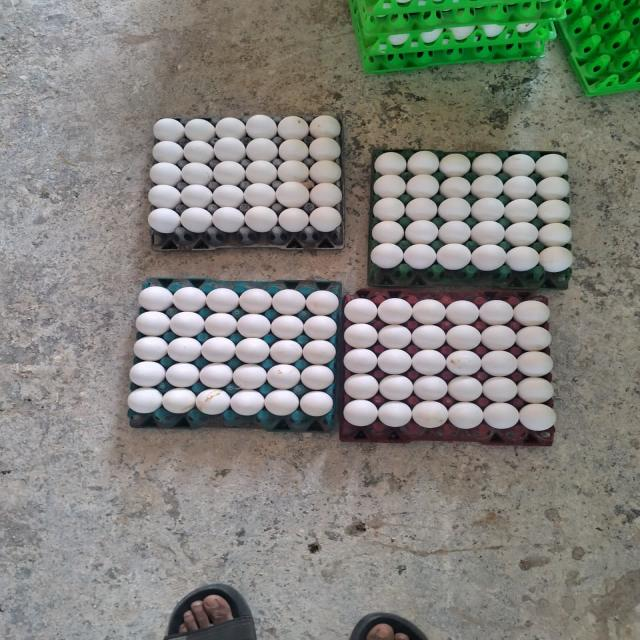egg_tray: (340, 290, 555, 446), (128, 279, 340, 431), (368, 150, 572, 288), (148, 115, 344, 250), (349, 0, 564, 73), (349, 0, 563, 56), (560, 0, 639, 96), (349, 0, 565, 34), (360, 20, 556, 56), (361, 41, 545, 73), (353, 0, 563, 25), (380, 20, 384, 23), (445, 15, 447, 18), (372, 25, 373, 27), (479, 58, 479, 58)
